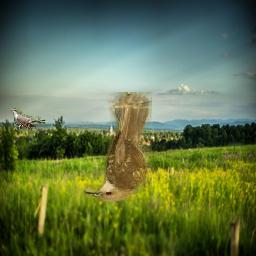Cuckoo: (84, 92, 152, 202), (12, 108, 47, 132)
